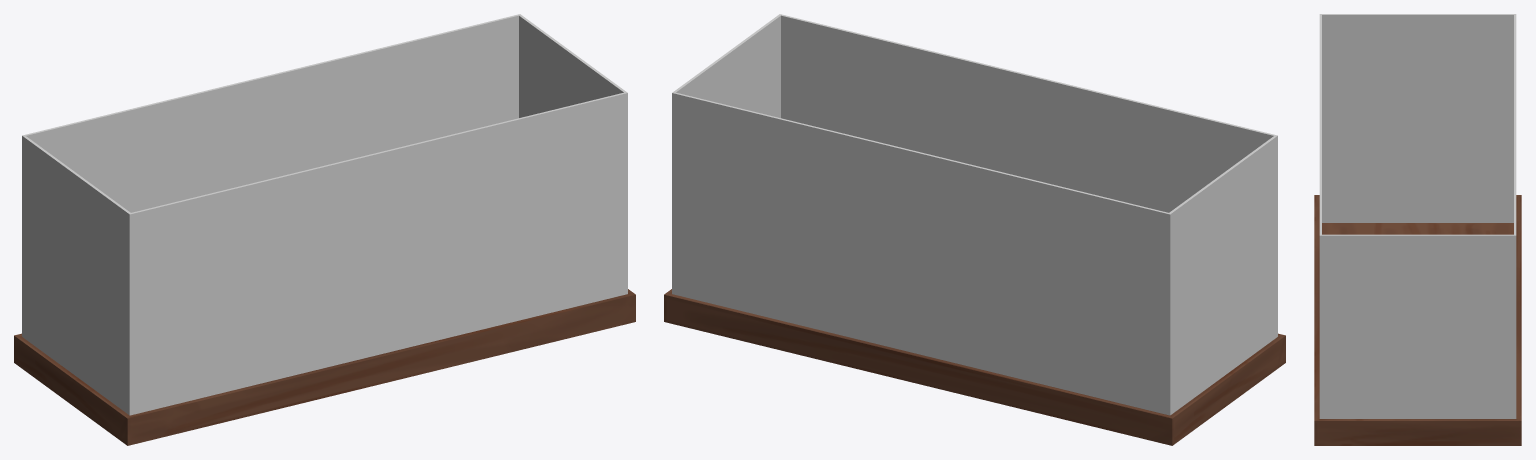
The model's file is Tank.fbx.
3 views of the same model, side by side, from view 1: azimuth 30°, elevation 25°; view 2: azimuth 150°, elevation 25°; view 3: azimuth 270°, elevation 25° (orthographic). The views are drawn at different scales.
Parts seen in each view (by area): view 1: Cube, Cube.001; view 2: Cube, Cube.001; view 3: Cube, Cube.001.
Boxes of the visible parts, left/top/right/bottom form: Cube: left=22, top=14, right=627, bottom=415; Cube.001: left=14, top=289, right=635, bottom=445; Cube: left=672, top=14, right=1277, bottom=415; Cube.001: left=664, top=289, right=1285, bottom=445; Cube: left=1319, top=14, right=1516, bottom=418; Cube.001: left=1314, top=195, right=1521, bottom=445.
Bounding box in the file's own units: 408 × 175 × 158.
